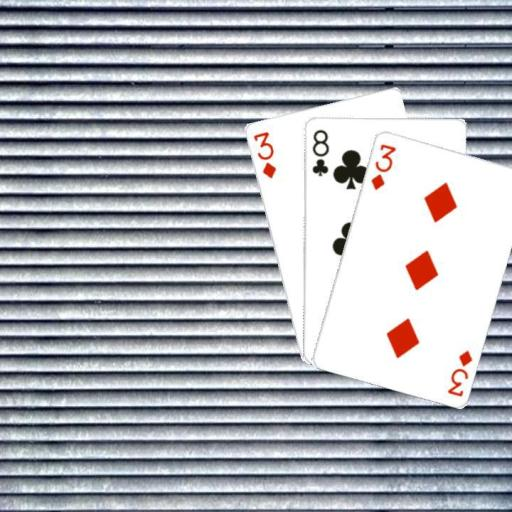3D: (368, 140, 398, 192), (444, 347, 474, 398), (250, 128, 277, 180)
8C: (309, 126, 330, 177)
